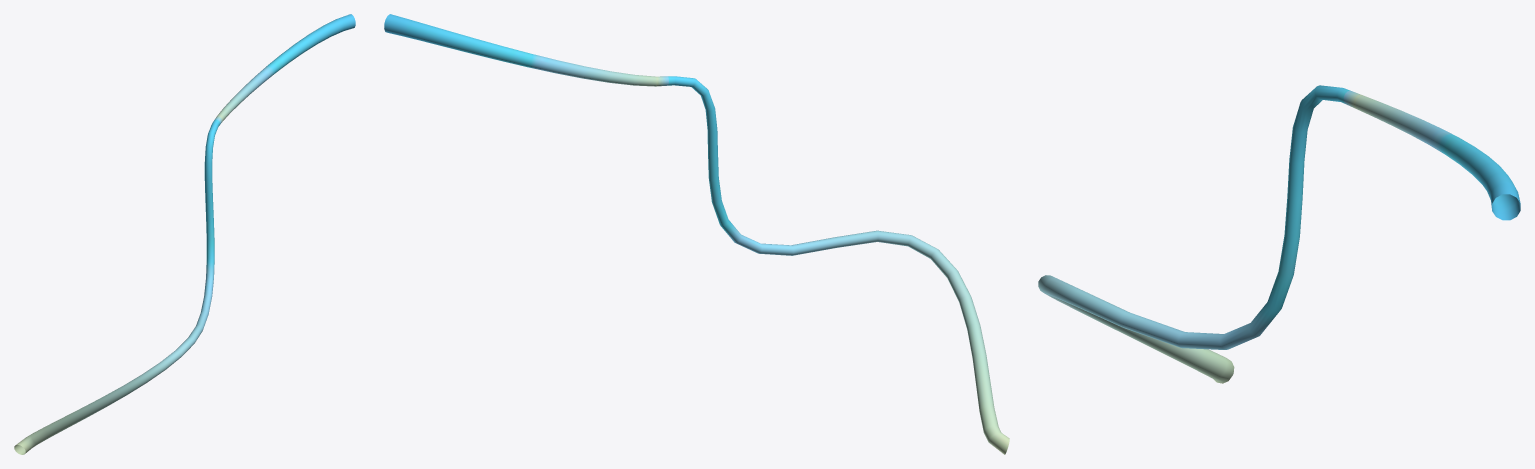
File: SinopseWire.004.fbx
3 views of the same model, side by side, from view 1: azimuth 30°, elevation 25°; view 2: azimuth 150°, elevation 25°; view 3: azimuth 270°, elevation 25° (orthographic). The views are drawn at different scales.
Parts seen in each view (by area): view 1: SinopseWire.004; view 2: SinopseWire.004; view 3: SinopseWire.004.
Part boxes in pixels (x1,y1,x2,y2): SinopseWire.004: (14, 14, 355, 454); SinopseWire.004: (384, 14, 1009, 454); SinopseWire.004: (1038, 85, 1520, 383).
Size of the model in its own units: 9 by 6.15 by 4.63.
1 material, 1 textured.
